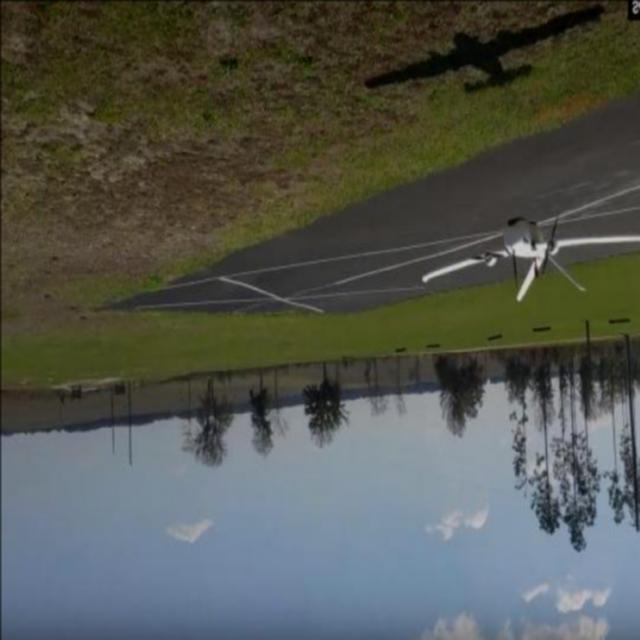plane: (417, 214, 640, 303)
